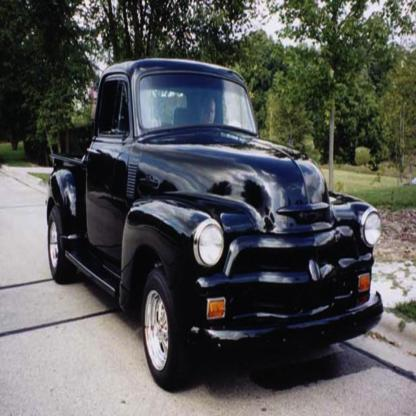Car: (45, 57, 384, 391)
Truck: (45, 58, 384, 392)
